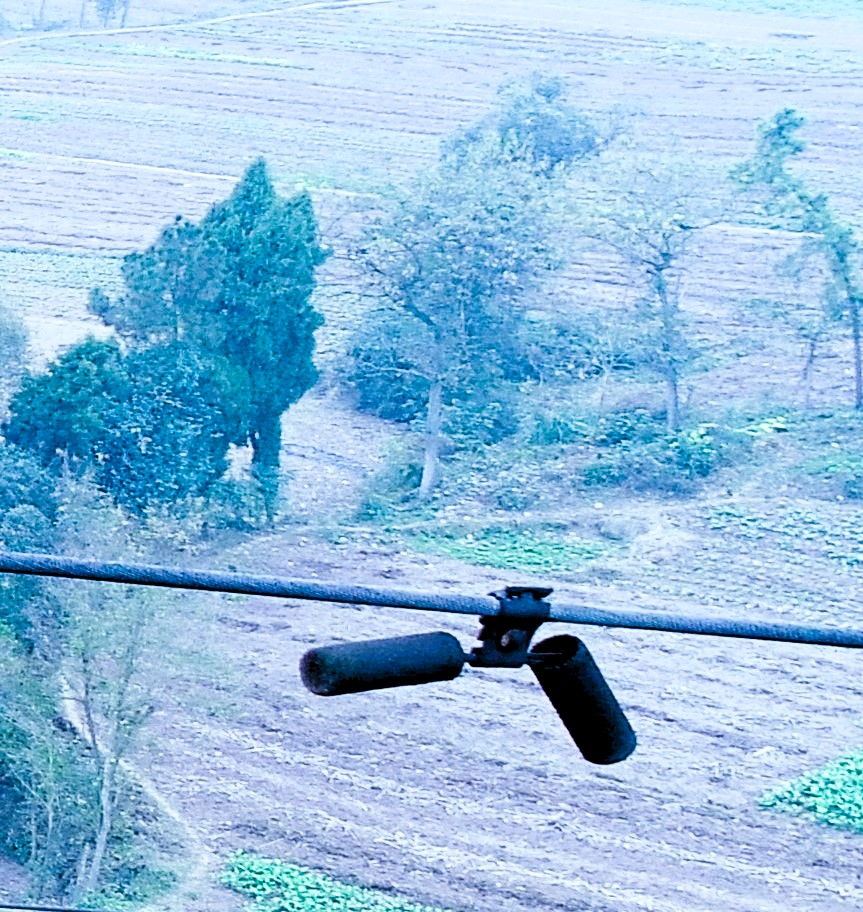Damage of shockproof hammer: (283, 567, 646, 785)
